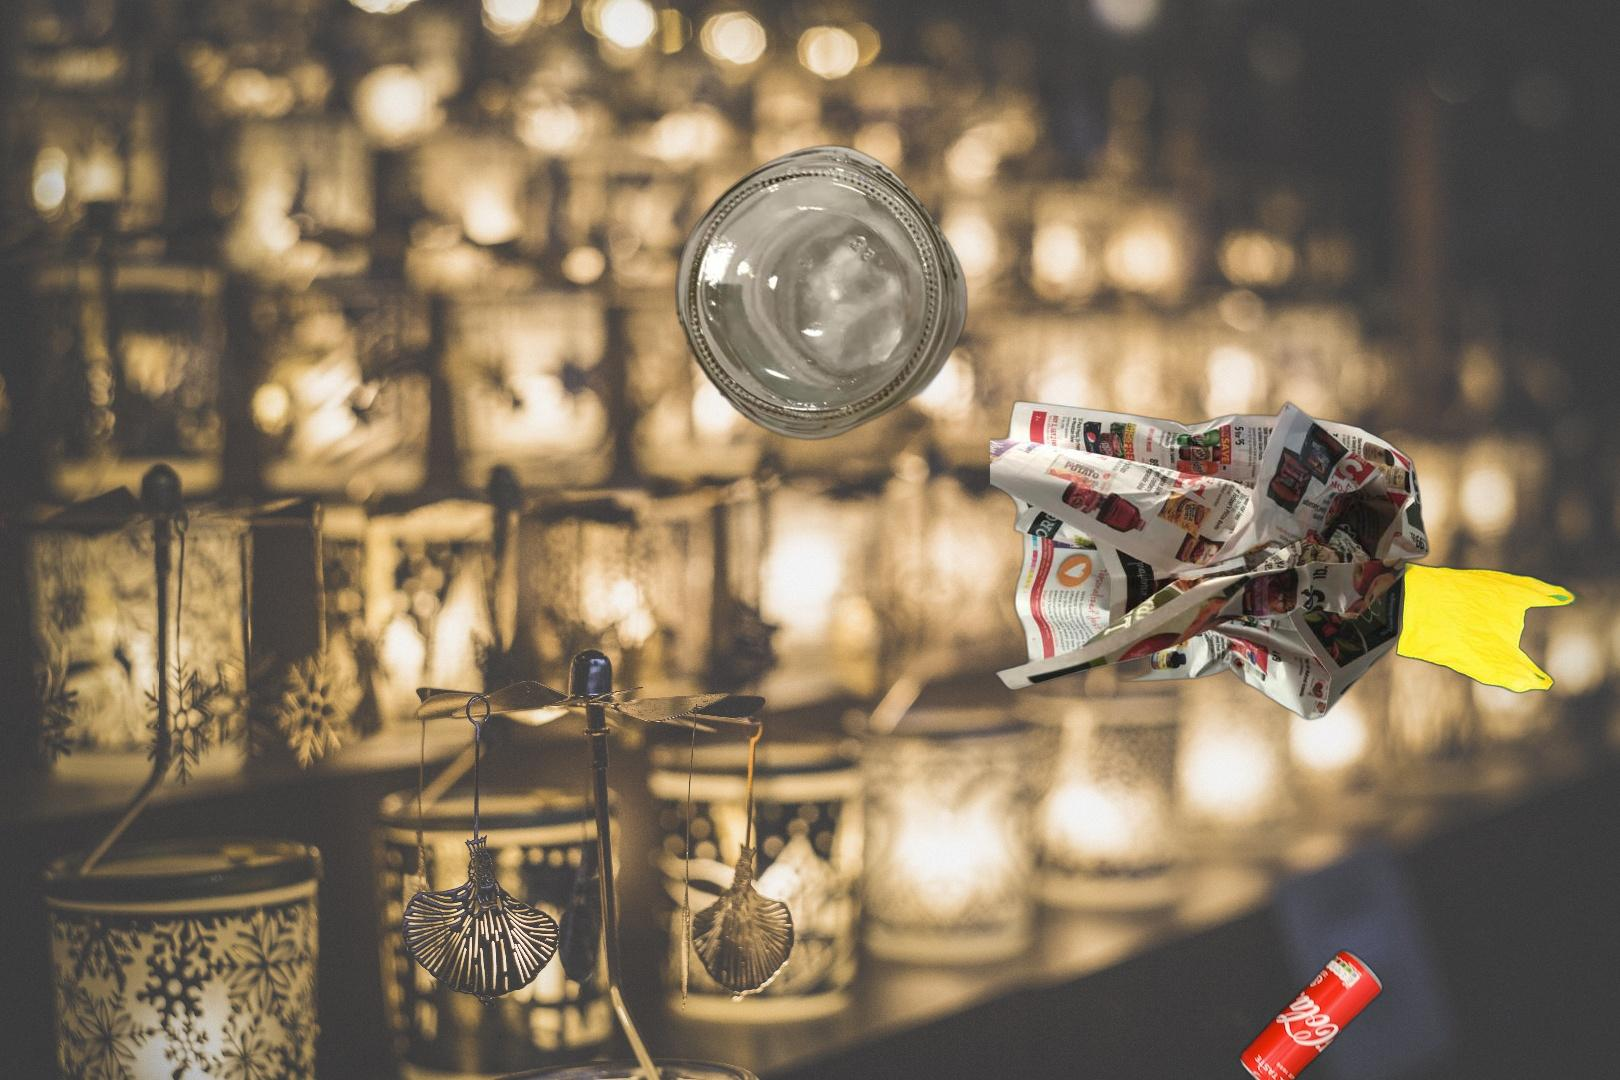glass: (671, 142, 972, 444)
metal-cans: (1234, 945, 1387, 1080)
paper: (990, 398, 1433, 724)
plastic-bag: (1395, 544, 1620, 730)
